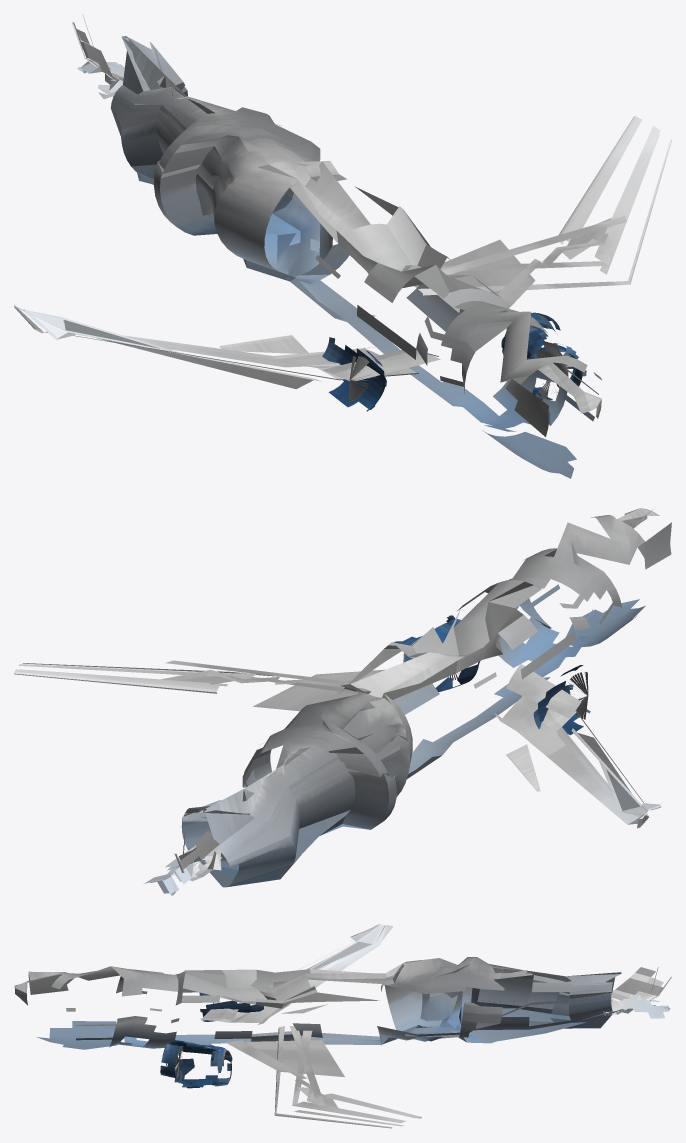
The model's file is PlaneCrashedModelGrouped.fbx.
The picture shows the model from 3 angles, top to bottom: view 1: azimuth 30°, elevation 25°; view 2: azimuth 150°, elevation 25°; view 3: azimuth 270°, elevation 25°; orthographic projection. The views are drawn at different scales.
Parts seen in each view (by area): view 1: Cylinder.005; view 2: Cylinder.005; view 3: Cylinder.005.
Part boxes in pixels (x1,y1,x2,y2): Cylinder.005: [14, 14, 671, 478]; Cylinder.005: [14, 508, 671, 895]; Cylinder.005: [14, 924, 671, 1128].
Size of the model in its own units: 3612 by 4879 by 795.
5 materials, 5 textured.
